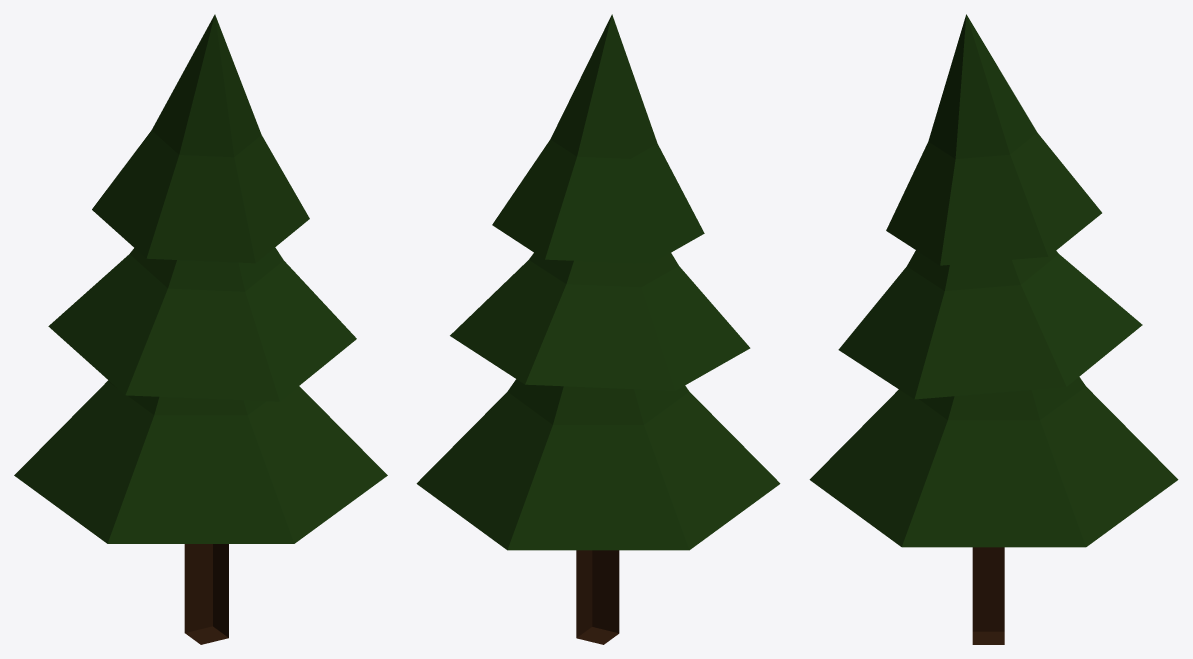
Rendered from SpruceTree3.fbx.
3 views of the same model, side by side, from view 1: azimuth 30°, elevation 25°; view 2: azimuth 150°, elevation 25°; view 3: azimuth 270°, elevation 25° (orthographic). The views are drawn at different scales.
Visible parts, largest first — view 1: Cube.059; view 2: Cube.059; view 3: Cube.059.
Part boxes in pixels (box(x1,y1,x2,y2)): Cube.059: box(14, 14, 387, 644); Cube.059: box(416, 14, 780, 644); Cube.059: box(809, 14, 1178, 644).
Size of the model in its own units: 40.29 by 86.6 by 46.53.
